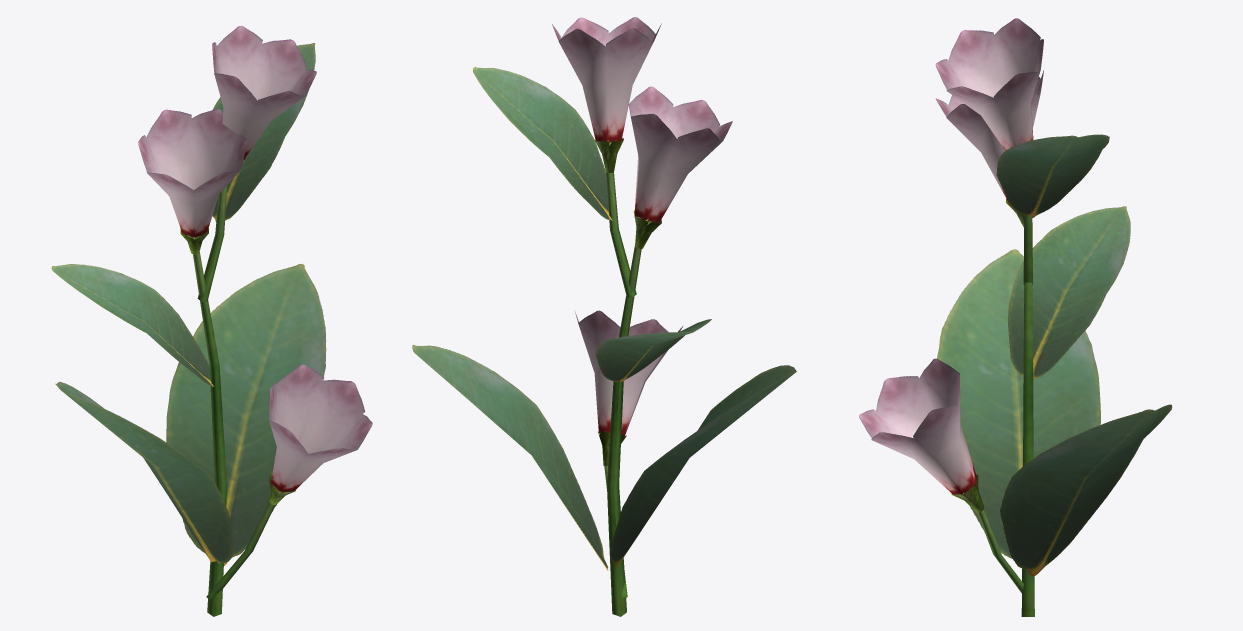
The model's file is bellf3.fbx.
3 views of the same model, side by side, from view 1: azimuth 30°, elevation 25°; view 2: azimuth 150°, elevation 25°; view 3: azimuth 270°, elevation 25° (orthographic). The views are drawn at different scales.
Visible parts, largest first — view 1: bellflower03; view 2: bellflower03; view 3: bellflower03.
Part boxes in pixels (x1=…): bellflower03: x1=51, y1=25, x2=372, y2=616; bellflower03: x1=412, y1=17, x2=796, y2=616; bellflower03: x1=859, y1=18, x2=1172, y2=616.
Bounding box in the file's own units: 27.63 × 43.41 × 24.47.
